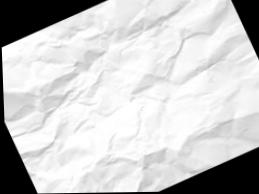paper: (1, 0, 258, 191)
